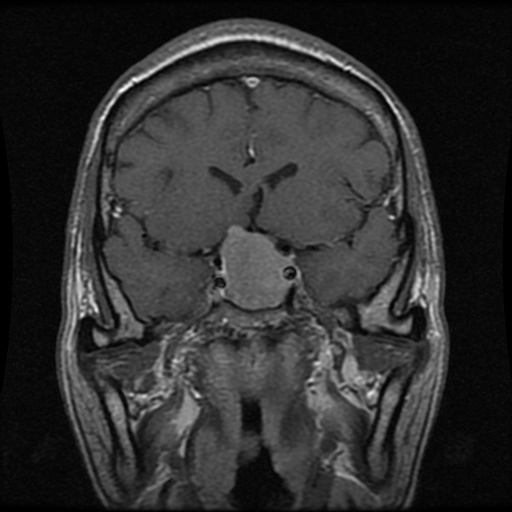pituitary: (222, 227, 289, 307)
